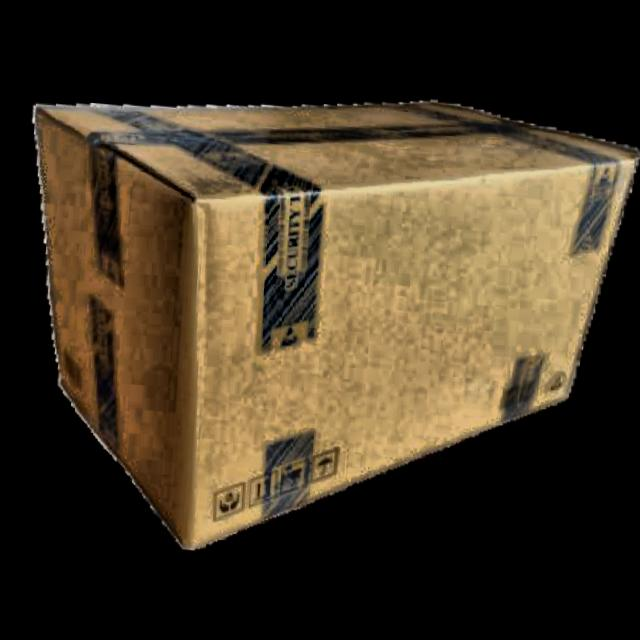Cardbox: (0, 27, 640, 597)
